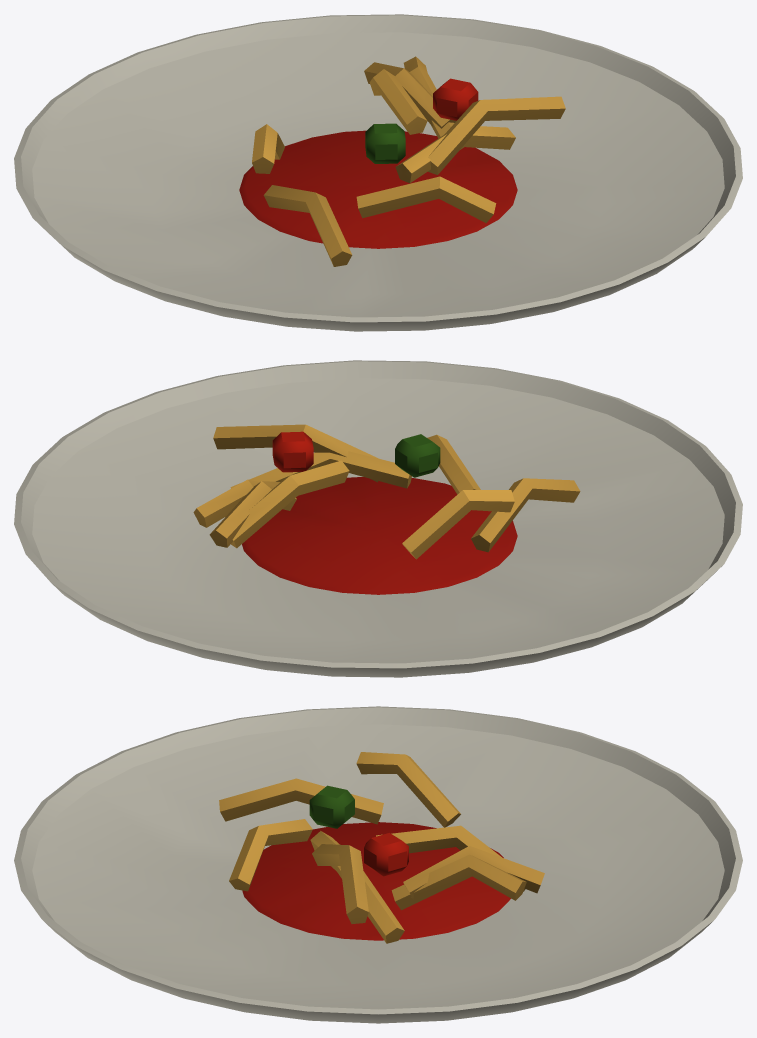
Rendered from food-veg-pasta-s2.glb.
3 renders of one model, top to bottom at view 1: azimuth 30°, elevation 25°; view 2: azimuth 150°, elevation 25°; view 3: azimuth 270°, elevation 25°, orthographic.
Visible parts, largest first — view 1: plate__ceramic, pasta__food, sauce__sauce; view 2: plate__ceramic, sauce__sauce, pasta__food; view 3: plate__ceramic, pasta__food, sauce__sauce.
Part boxes in pixels (bbox=[...]): plate__ceramic: bbox=[14, 14, 742, 331]; pasta__food: bbox=[252, 56, 565, 266]; sauce__sauce: bbox=[239, 130, 517, 248]; plate__ceramic: bbox=[14, 360, 742, 677]; sauce__sauce: bbox=[242, 477, 517, 594]; pasta__food: bbox=[193, 424, 580, 559]; plate__ceramic: bbox=[14, 706, 742, 1023]; pasta__food: bbox=[219, 752, 544, 943]; sauce__sauce: bbox=[242, 822, 510, 940].
Bounding box in the file's own units: 0.26 × 0.0439 × 0.26.
